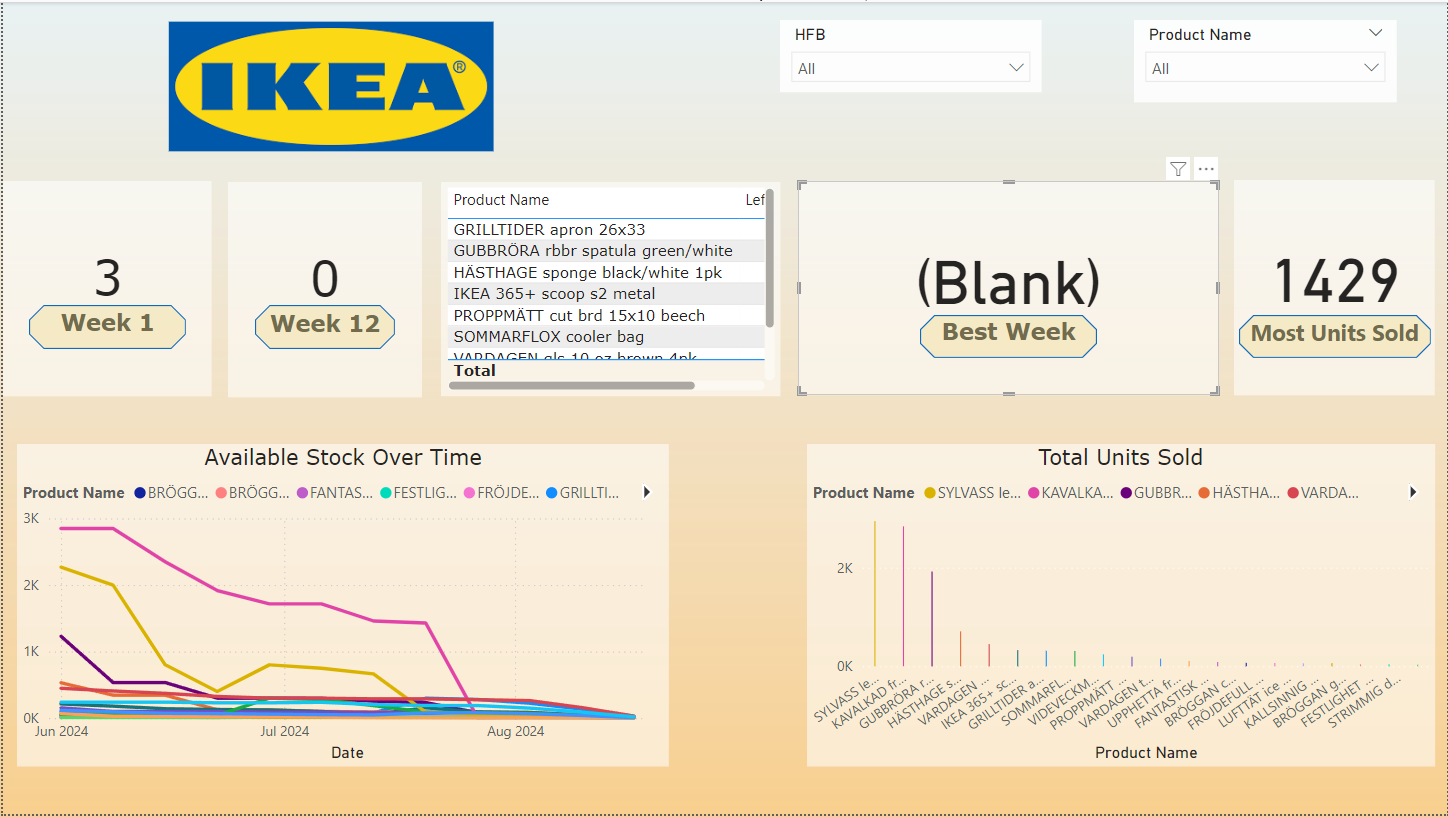

The page's visual inventory and layout, read from the dashboard file:
{"tool":"powerbi","page":{"name":"projection","canvas":[1280,720],"ordinal":0},"visuals":[{"type":"lineChart","title":"Available Stock Over Time","fields":{"Category":["all_together.Date.1"],"Y":["Sum(all_together.AVAILABLESTOCK)"],"Series":["all_together.ARTNAME_UNICODE"]},"box":[12.4,391.9,578.1,286.4],"z":0},{"type":"slicer","fields":{"Values":["all_together.HFB"]},"box":[689.2,16.2,232.5,63.9],"z":1000},{"type":"slicer","fields":{"Values":["all_together.ARTNAME_UNICODE"]},"box":[1002.9,16,233.2,72.7],"z":2000},{"type":"clusteredColumnChart","title":"Total Units Sold","fields":{"Y":["all_together.Total_Units_Sold"],"Category":["all_together.ARTNAME_UNICODE"],"Series":["all_together.ARTNAME_UNICODE"]},"box":[712.9,391.9,556.8,286.4],"z":3000},{"type":"card","fields":{"Values":["all_together.Best_Week_Date"]},"box":[704.9,158.7,373.3,189.8],"z":4000},{"type":"card","fields":{"Values":["all_together.Starting_Stock"]},"box":[0,158.7,185.3,190.6],"z":5000},{"type":"card","fields":{"Values":["all_together.Ending_Stock"]},"box":[199.5,159.6,172,190.6],"z":6000},{"type":"tableEx","fields":{"Values":["all_together.ARTNAME_UNICODE","all_together.Ending_Stock_Greater_Than_Zero"]},"box":[388.4,159.6,300.6,189.8],"z":7000},{"type":"image","box":[0,12.2,582.6,124.9],"z":8000},{"type":"card","fields":{"Values":["all_together.Best_Week_Units_Sold"]},"box":[1091.5,157.8,178.2,190.6],"z":14000},{"type":"shape","box":[223.4,268.7,124.1,39],"z":20000},{"type":"shape","box":[813.1,277.5,156.9,38.1],"z":21000},{"type":"shape","box":[23.1,268.7,139.2,39],"z":22000},{"type":"shape","box":[1096,277.5,170.2,38.1],"z":23000}]}

Visuals, with their boxes in screenshot pixels (x1, y1, x2, y2), scaled from the page's 1280x720 canvas onto the 1448x817 screenshot:
"Available Stock Over Time" lineChart: box(14, 445, 668, 770)
slicer - all_together.HFB: box(780, 18, 1043, 91)
slicer - all_together.ARTNAME_UNICODE: box(1135, 18, 1398, 101)
"Total Units Sold" clusteredColumnChart: box(806, 445, 1436, 770)
card - all_together.Best_Week_Date: box(797, 180, 1220, 395)
card - all_together.Starting_Stock: box(0, 180, 210, 396)
card - all_together.Ending_Stock: box(226, 181, 420, 397)
tableEx - all_together.ARTNAME_UNICODE x all_together.Ending_Stock_Greater_Than_Zero: box(439, 181, 779, 396)
image: box(0, 14, 659, 156)
card - all_together.Best_Week_Units_Sold: box(1235, 179, 1436, 395)
shape: box(253, 305, 393, 349)
shape: box(920, 315, 1097, 358)
shape: box(26, 305, 184, 349)
shape: box(1240, 315, 1432, 358)
